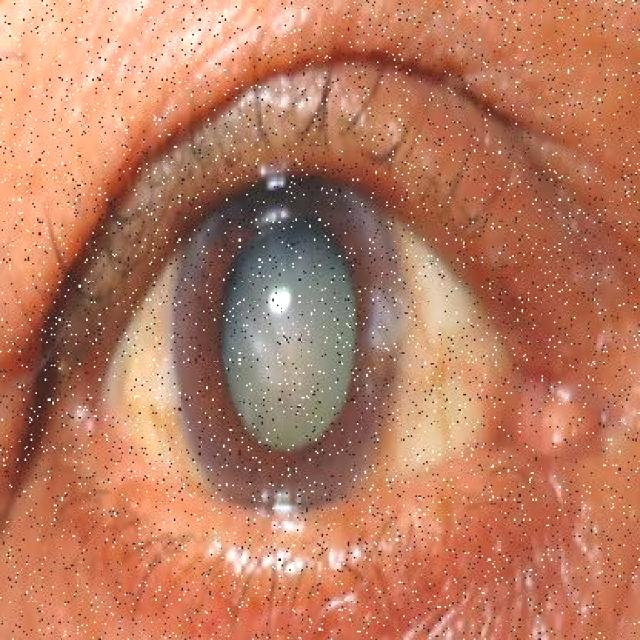Cataract: (144, 149, 426, 543)
